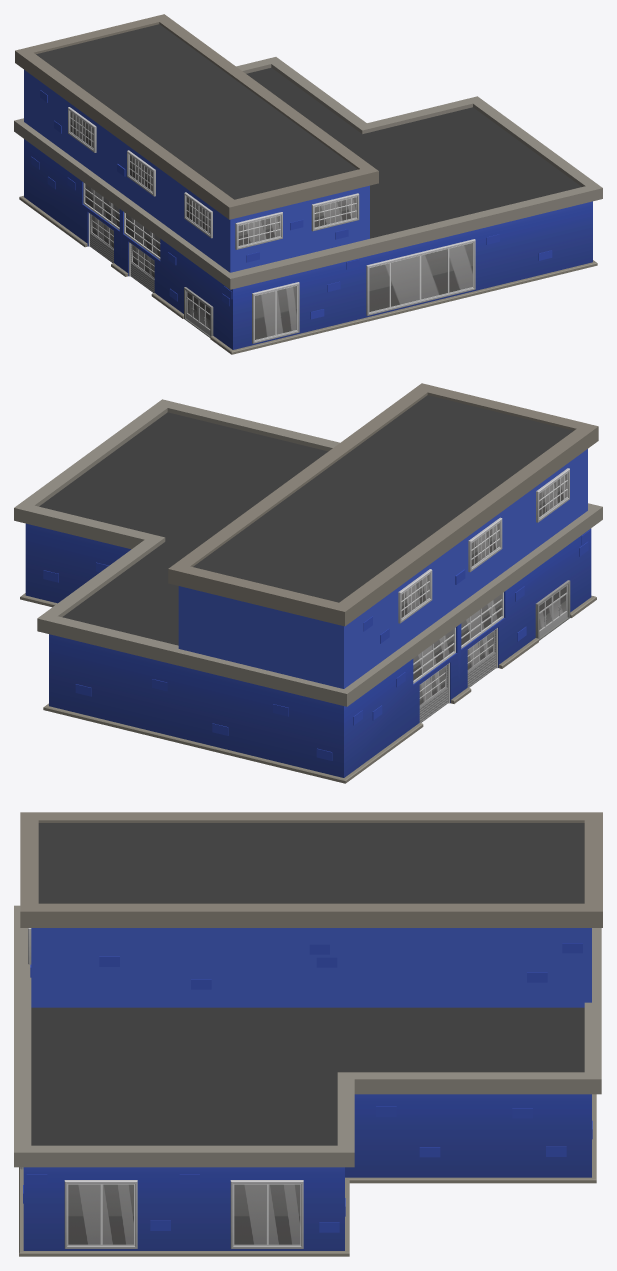
File: Building_22_1_F.fbx
The picture shows the model from 3 angles, top to bottom: view 1: azimuth 30°, elevation 25°; view 2: azimuth 150°, elevation 25°; view 3: azimuth 270°, elevation 25°; orthographic projection. The views are drawn at different scales.
Parts seen in each view (by area): view 1: Building_22_1_F; view 2: Building_22_1_F; view 3: Building_22_1_F.
Boxes of the visible parts, x1,y1,x2,y2 form: Building_22_1_F: (14,14,602,354); Building_22_1_F: (14,383,602,783); Building_22_1_F: (14,812,602,1256).
Size of the model in its own units: 3108 by 1175 by 3132.
